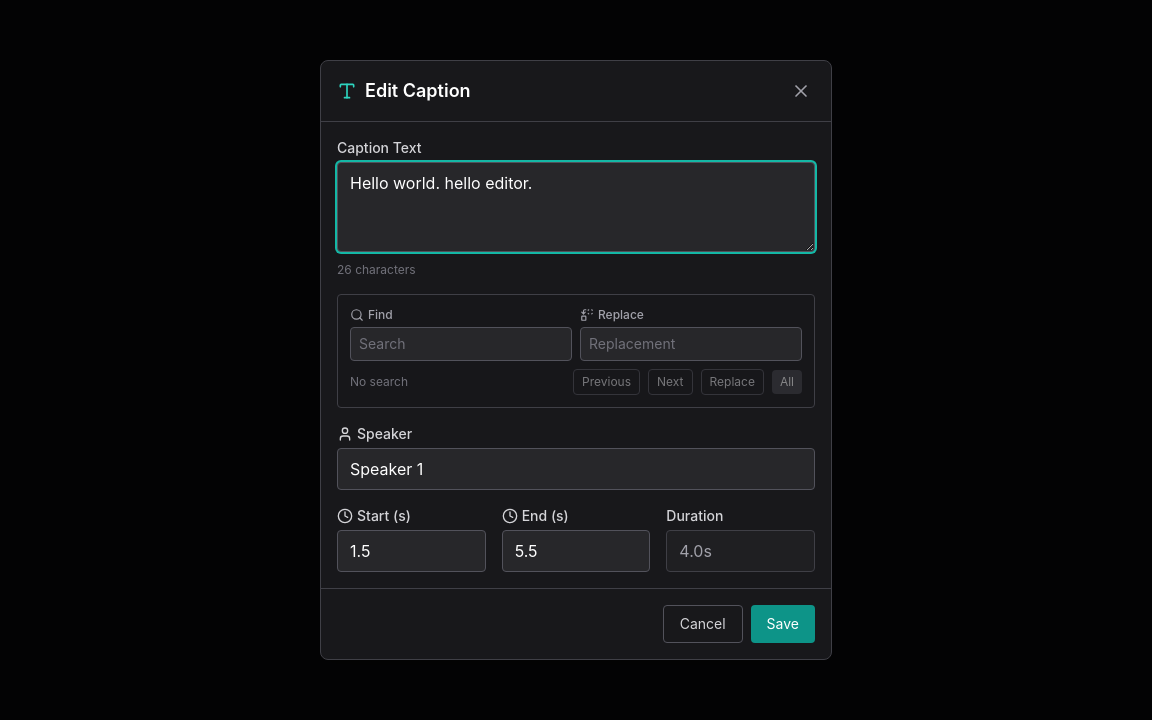
it: CaptionEditor › Text Editing › finds caption text matches case-insensitively
Type "hello" into the search field named "find in caption".
click(461, 344); type("hello")  # box [350, 327, 572, 361]
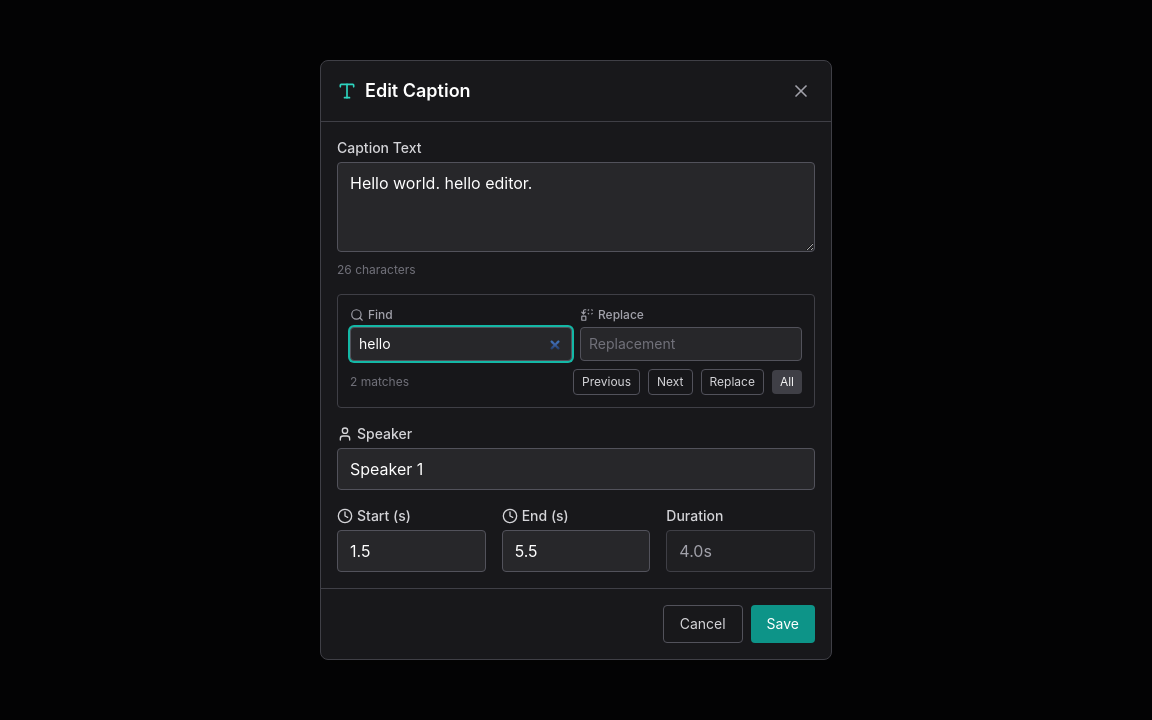
Expected: the text "2 matches" is shown, [350, 374, 409, 390]
